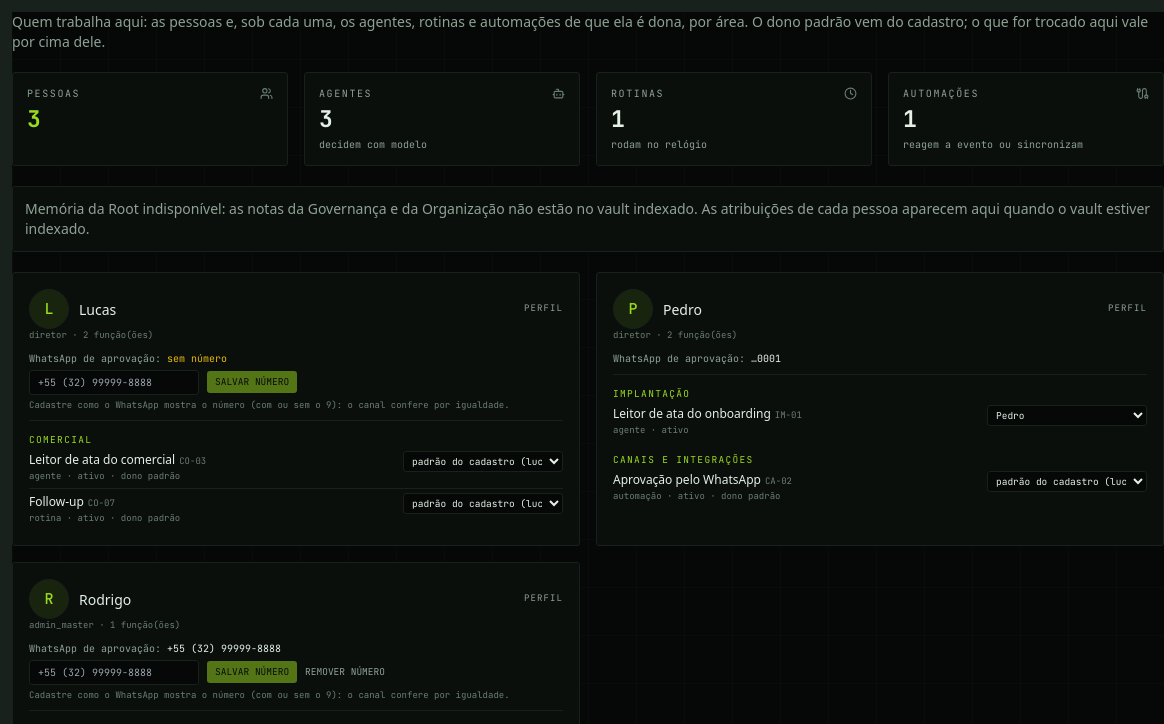
Test: o WhatsApp de cada pessoa › a recusa da API (número de outra pessoa) aparece na tela
Type "32 99999-8888" into the field named "WhatsApp de Lucas". click: x=114, y=382
box: [29,370,199,394]
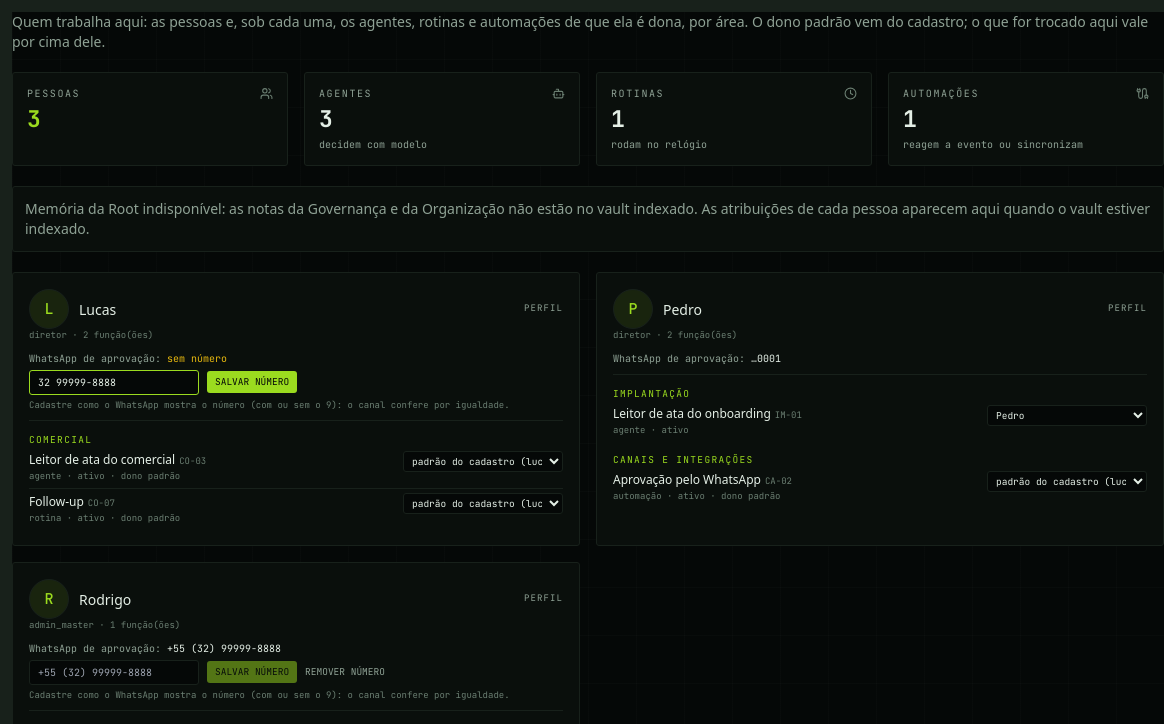
Click the button "salvar número" below "sem número". click: x=252, y=382
box: [207,371,297,393]
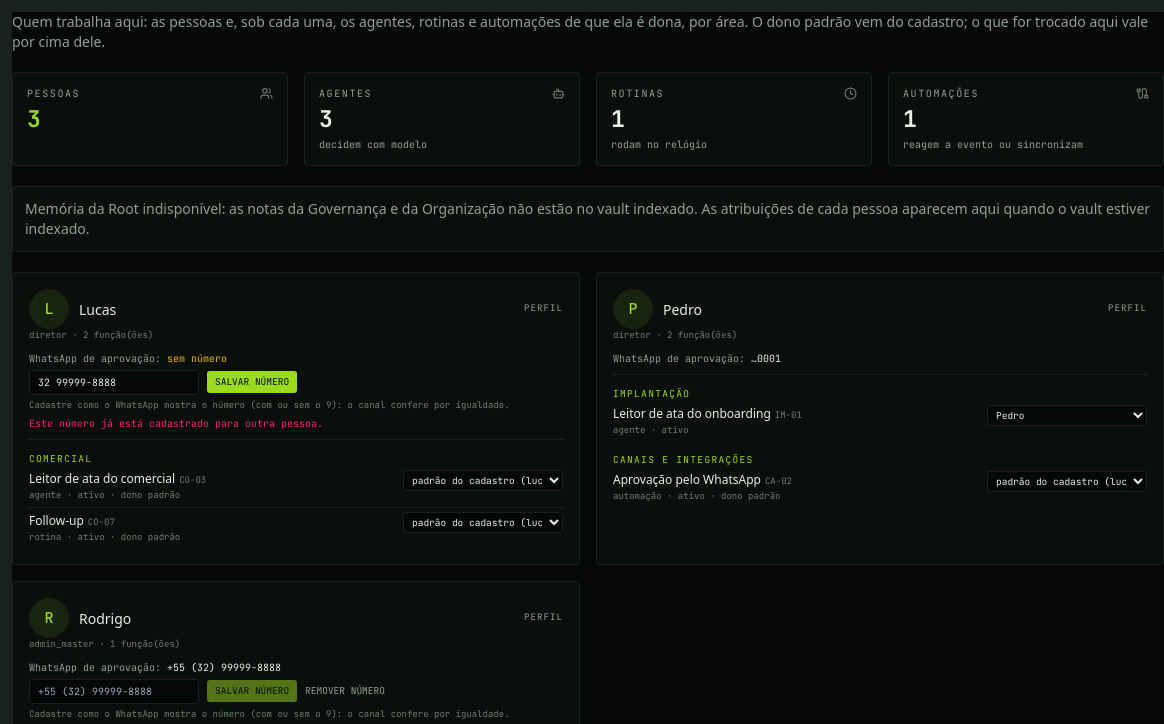
Now the message "Este número já está cadastrado para outra pessoa." is shown, box [29,417,323,430]
